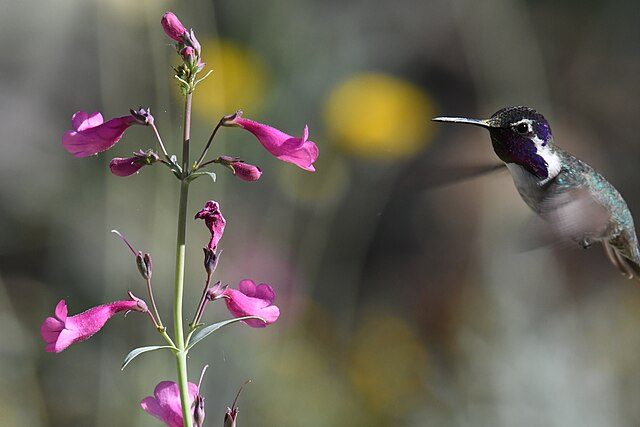calypte costae: (428, 103, 639, 291)
